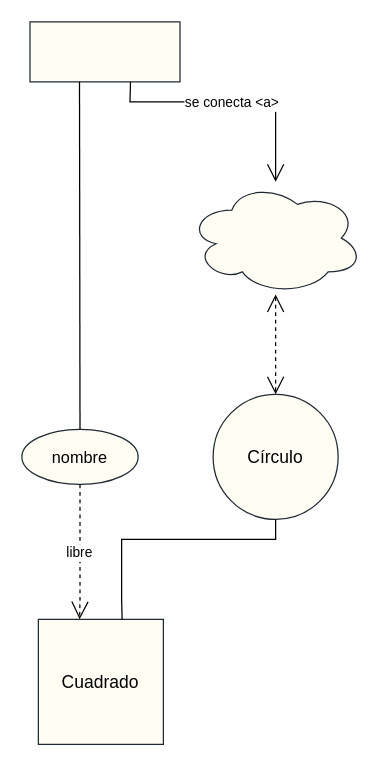
Image size: 385x766. Some labels were removed from this diagram. Each missing label, with the box of its shape:
Cliente: (29, 21, 180, 82)
Nube: (187, 181, 363, 294)
